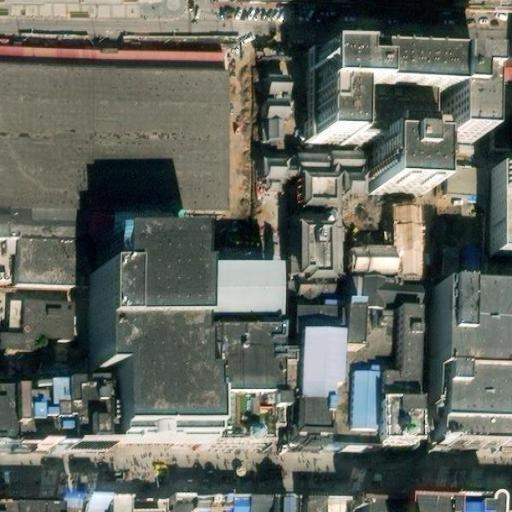building: (93, 251, 203, 440), (293, 317, 416, 468), (294, 172, 399, 318), (425, 293, 512, 449), (329, 60, 500, 138), (202, 348, 276, 466), (3, 291, 90, 365), (195, 282, 275, 349), (5, 238, 90, 291), (392, 137, 453, 188), (257, 72, 292, 146), (166, 489, 241, 511), (496, 171, 512, 269), (352, 491, 400, 512), (246, 491, 292, 512), (1, 497, 65, 512), (259, 155, 292, 183), (301, 493, 347, 511), (131, 497, 169, 512), (448, 501, 496, 512)
